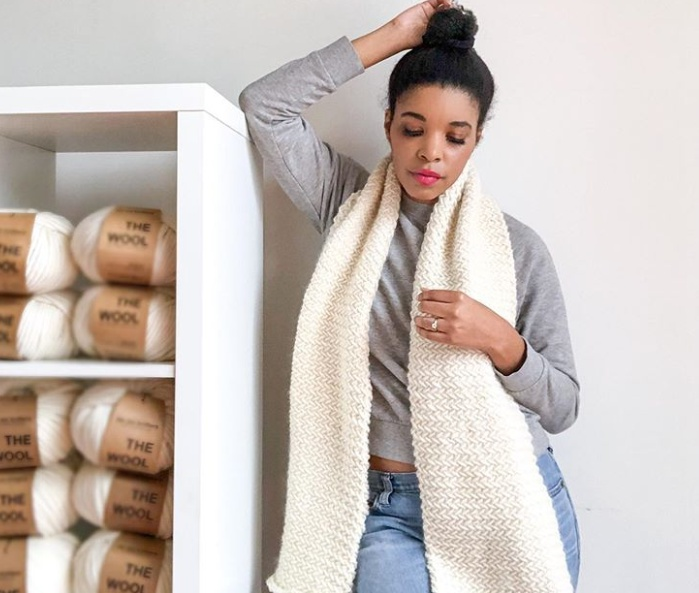mouth: (409, 169, 445, 186)
nose: (416, 151, 443, 163)
